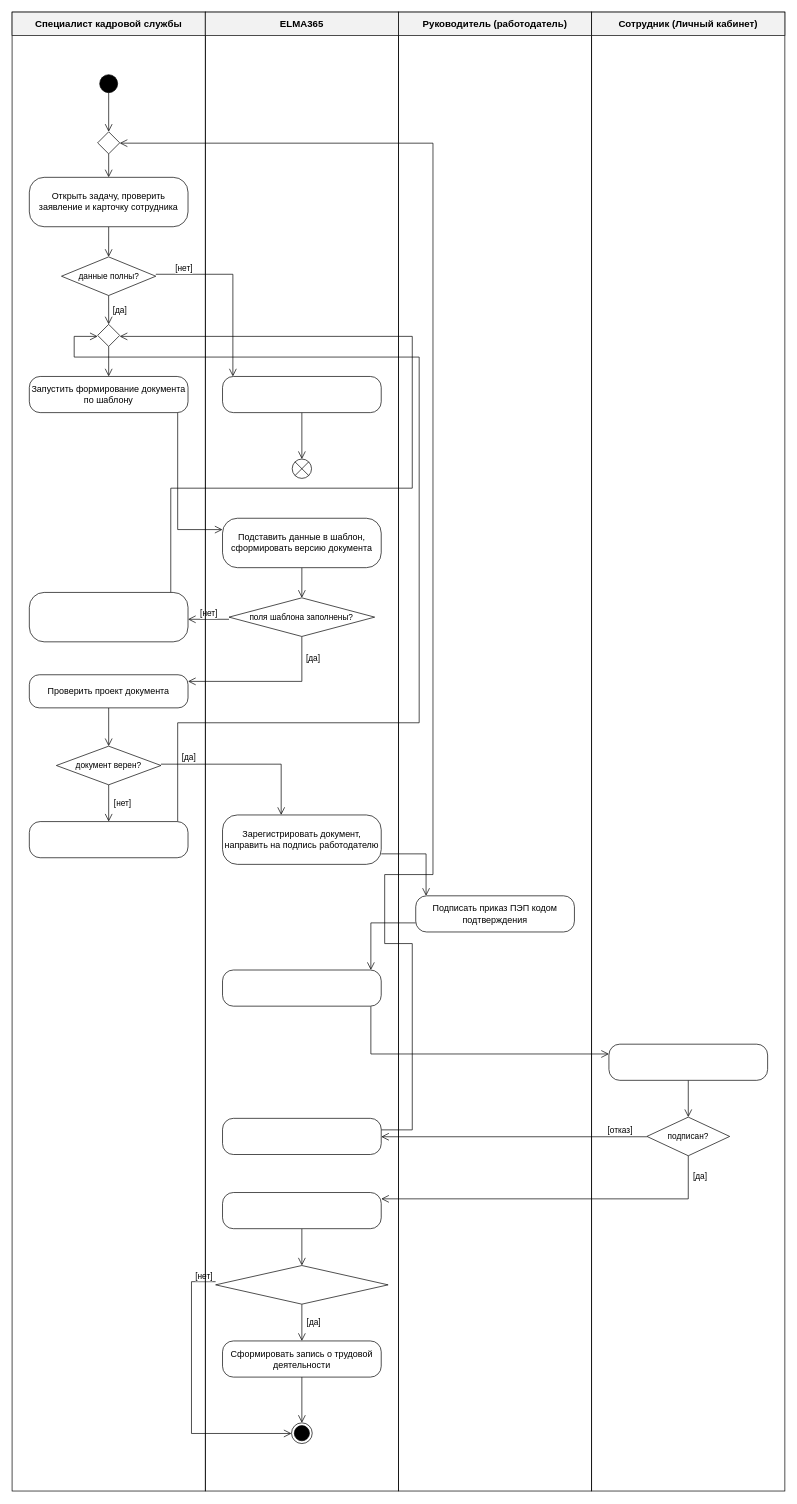
The diagram is 797 pixels wide and 1504 high, and some of its shapes have lost their labels. The shapes that lost their labels are listed below. From the top down, each one's centre as x and y in pixels, then its label:
At (301,394): "Вернуть заявление на доработку, уведомить сотрудника".
At (108,617): "Получить перечень незаполненных полей, дополнить данные".
At (108,839): "Отклонить черновик с причиной, исправить данные".
At (301,987): "Сохранить подпись работодателя, направить сотруднику".
At (688,1061): "Ознакомиться и подписать ПЭП кодом подтверждения".
At (301,1136): "Статус «Возвращён специалисту», задача на пересмотр".
At (301,1210): "Сохранить подпись и итоговую версию, поместить в архив".
At (301,1284): "приказ о приёме, переводе, увольнении?".
